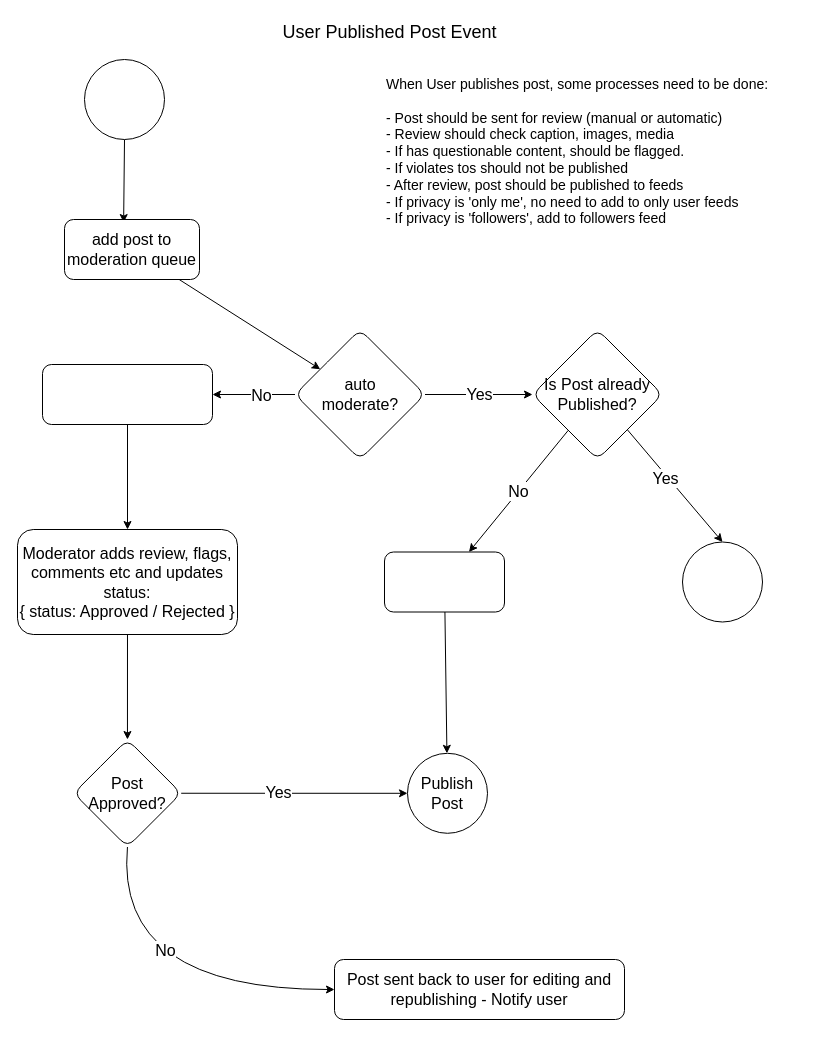
This 832x1037 diagram has some shape labels left out. Here are the shapes that lost their labels. From the top down, the centre of each, then its label:
At (124,99): "Post Sent for Review".
At (127,394): "Post awaiting review { status: Pending }".
At (444,581): "update Post moderation".
At (722,581): "Do nothing".
